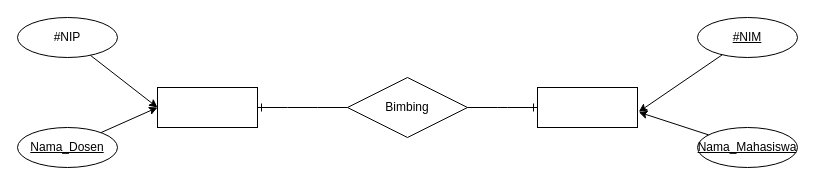
This 815x185 diagram has some shape labels left out. The shapes that lost their labels are listed below. From the top down, each one's centre as x and y in pixels, then its label:
the point at 207,107: Dosen_Pembimbing
the point at 587,107: Mahasiswa
